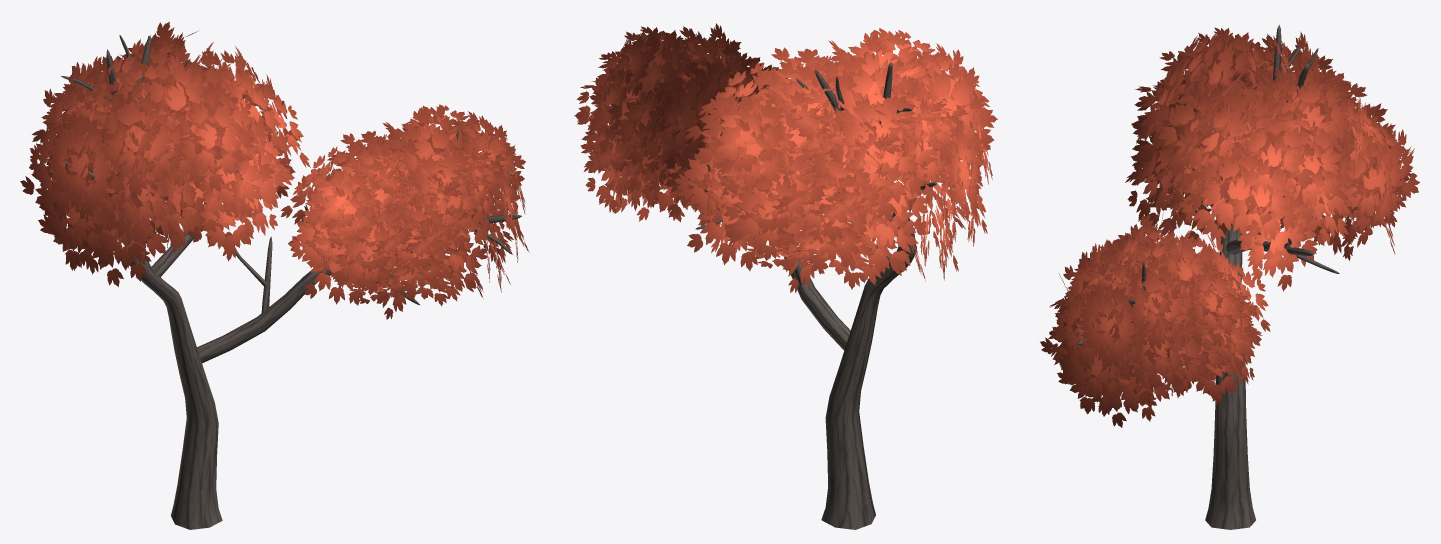
Rendered from maple_tree_1.gltf.
The picture shows the model from 3 angles, left to right: view 1: azimuth 30°, elevation 25°; view 2: azimuth 150°, elevation 25°; view 3: azimuth 270°, elevation 25°; orthographic projection. The views are drawn at different scales.
Parts seen in each view (by area): view 1: MapleTree_1; view 2: MapleTree_1; view 3: MapleTree_1.
Boxes of the visible parts, x1=… form: MapleTree_1: x1=20, y1=21, x2=529, y2=529; MapleTree_1: x1=574, y1=23, x2=997, y2=529; MapleTree_1: x1=1040, y1=25, x2=1419, y2=529.
Size of the model in its own units: 6.23 by 6.64 by 4.9.
2 materials, 2 textured.
